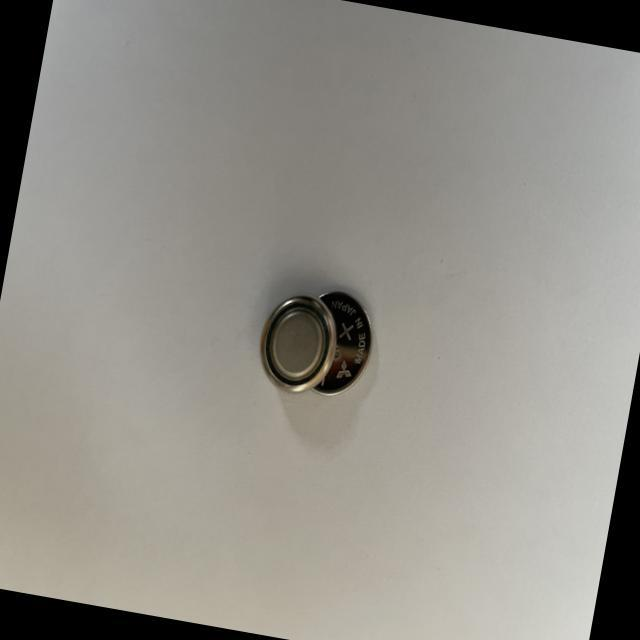COIN: (251, 284, 343, 398), (301, 288, 379, 400)
